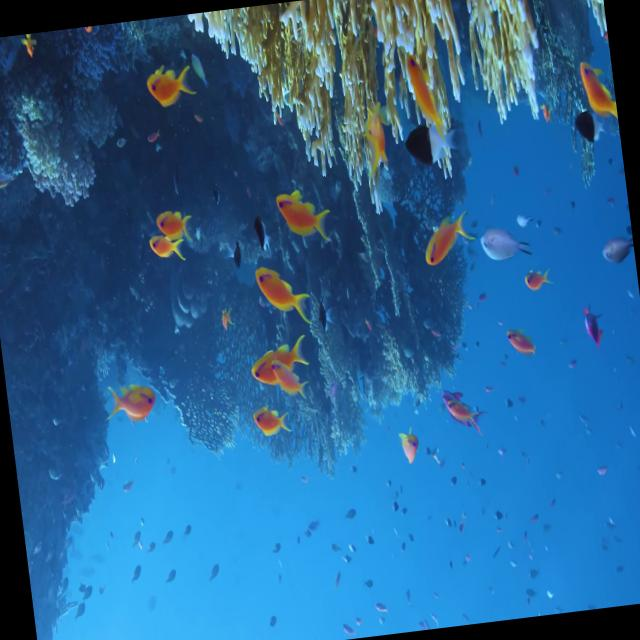fish: (250, 255, 323, 341), (276, 181, 338, 253), (571, 46, 619, 132), (420, 204, 476, 272), (471, 216, 535, 272), (400, 118, 462, 172), (249, 339, 312, 389), (240, 399, 296, 448), (104, 380, 160, 428), (152, 62, 200, 116), (446, 394, 485, 452), (268, 358, 314, 406), (576, 301, 614, 355), (568, 102, 602, 152), (154, 205, 195, 242), (593, 242, 636, 274), (146, 232, 186, 264), (506, 322, 538, 360), (518, 262, 552, 296), (397, 428, 426, 467)
